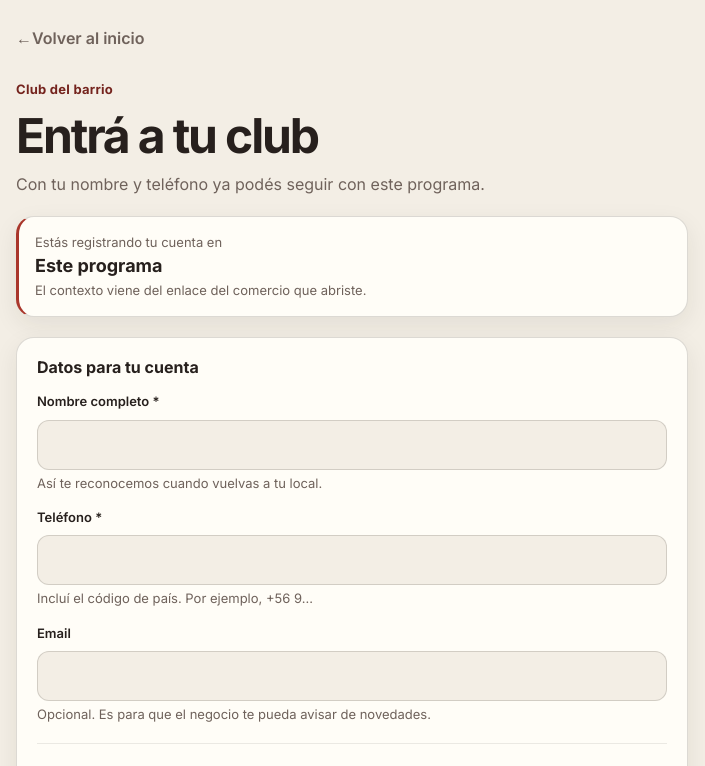
Test: registration behavior › shows the gateway connectivity message after a network failure
The image size is (705, 766).
Type "Ada Lovelace" into the field labelled "Nombre completo *" at (352, 445), box [37,420,667,470]
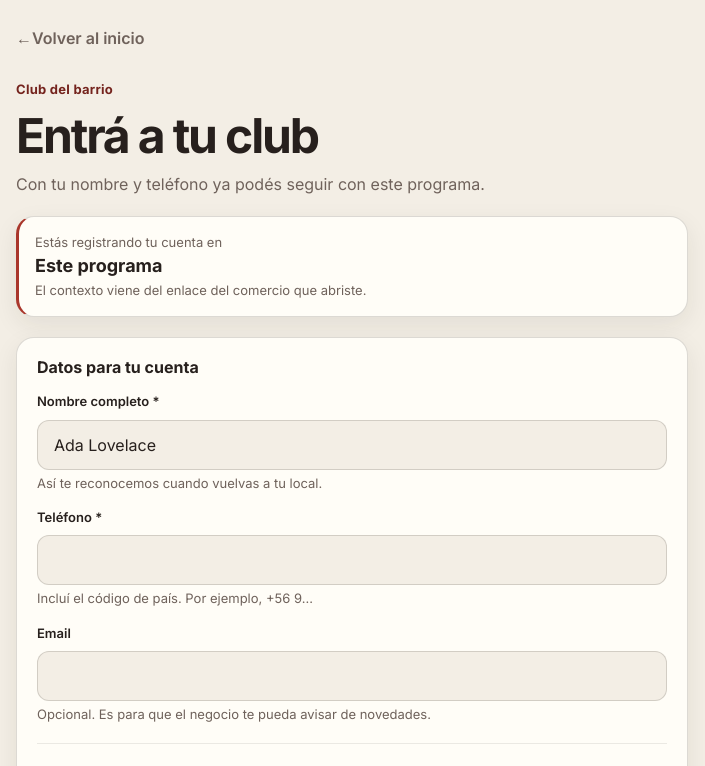
Type "+56 9 1234 5678" into the field labelled "Teléfono *" at (352, 560), box [37,535,667,585]
(page scrolled)
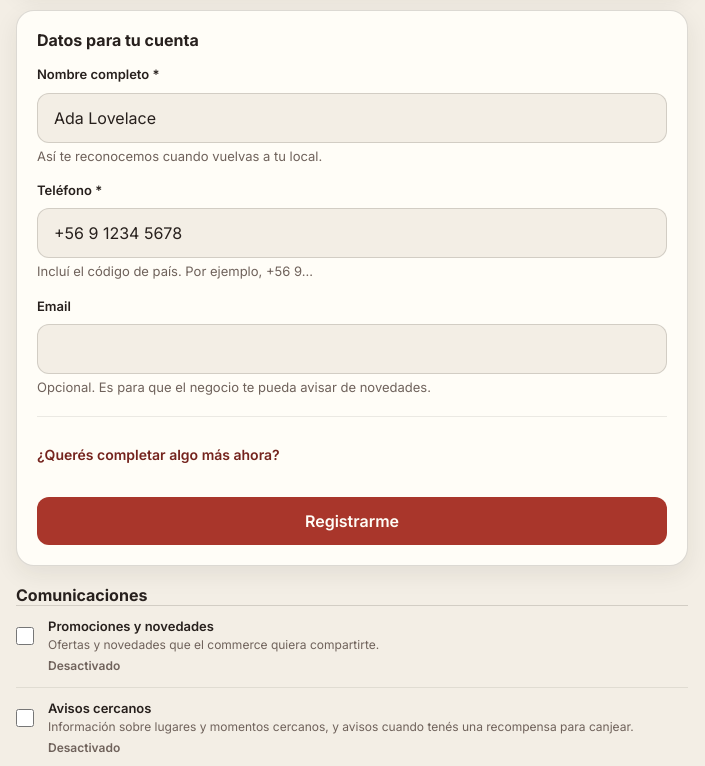
Click the button "Registrarme" at (352, 521), box [37,497,667,545]
(page scrolled)
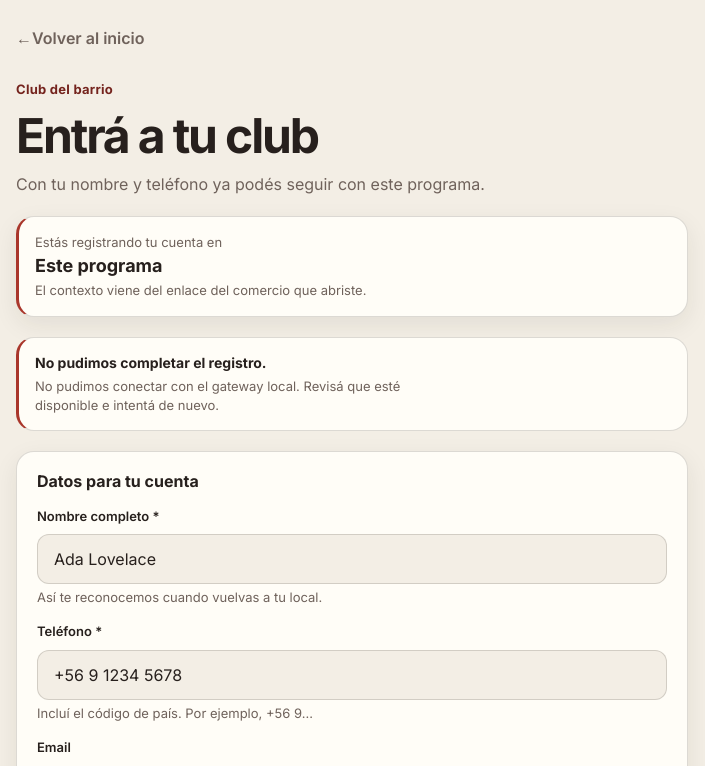
Expected: the text "No pudimos conectar con el gateway local. Revisá que esté disponible e intentá de nuevo." is shown, [35,378,400,412]
